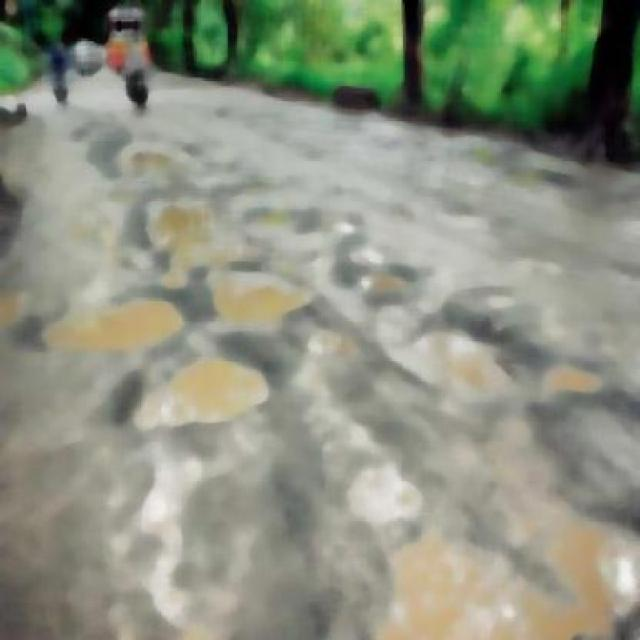Pothole: (366, 512, 639, 638), (150, 138, 216, 276), (44, 292, 185, 356), (206, 244, 300, 338), (141, 360, 267, 423)
